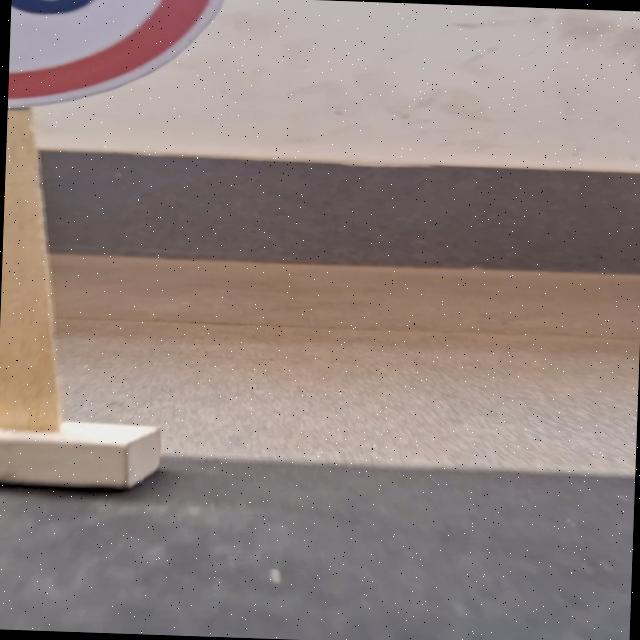Reject: (8, 0, 241, 113)
